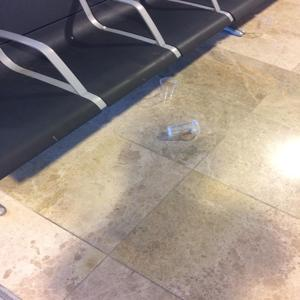plastic: (161, 116, 205, 146), (156, 74, 185, 107), (222, 22, 255, 40)
